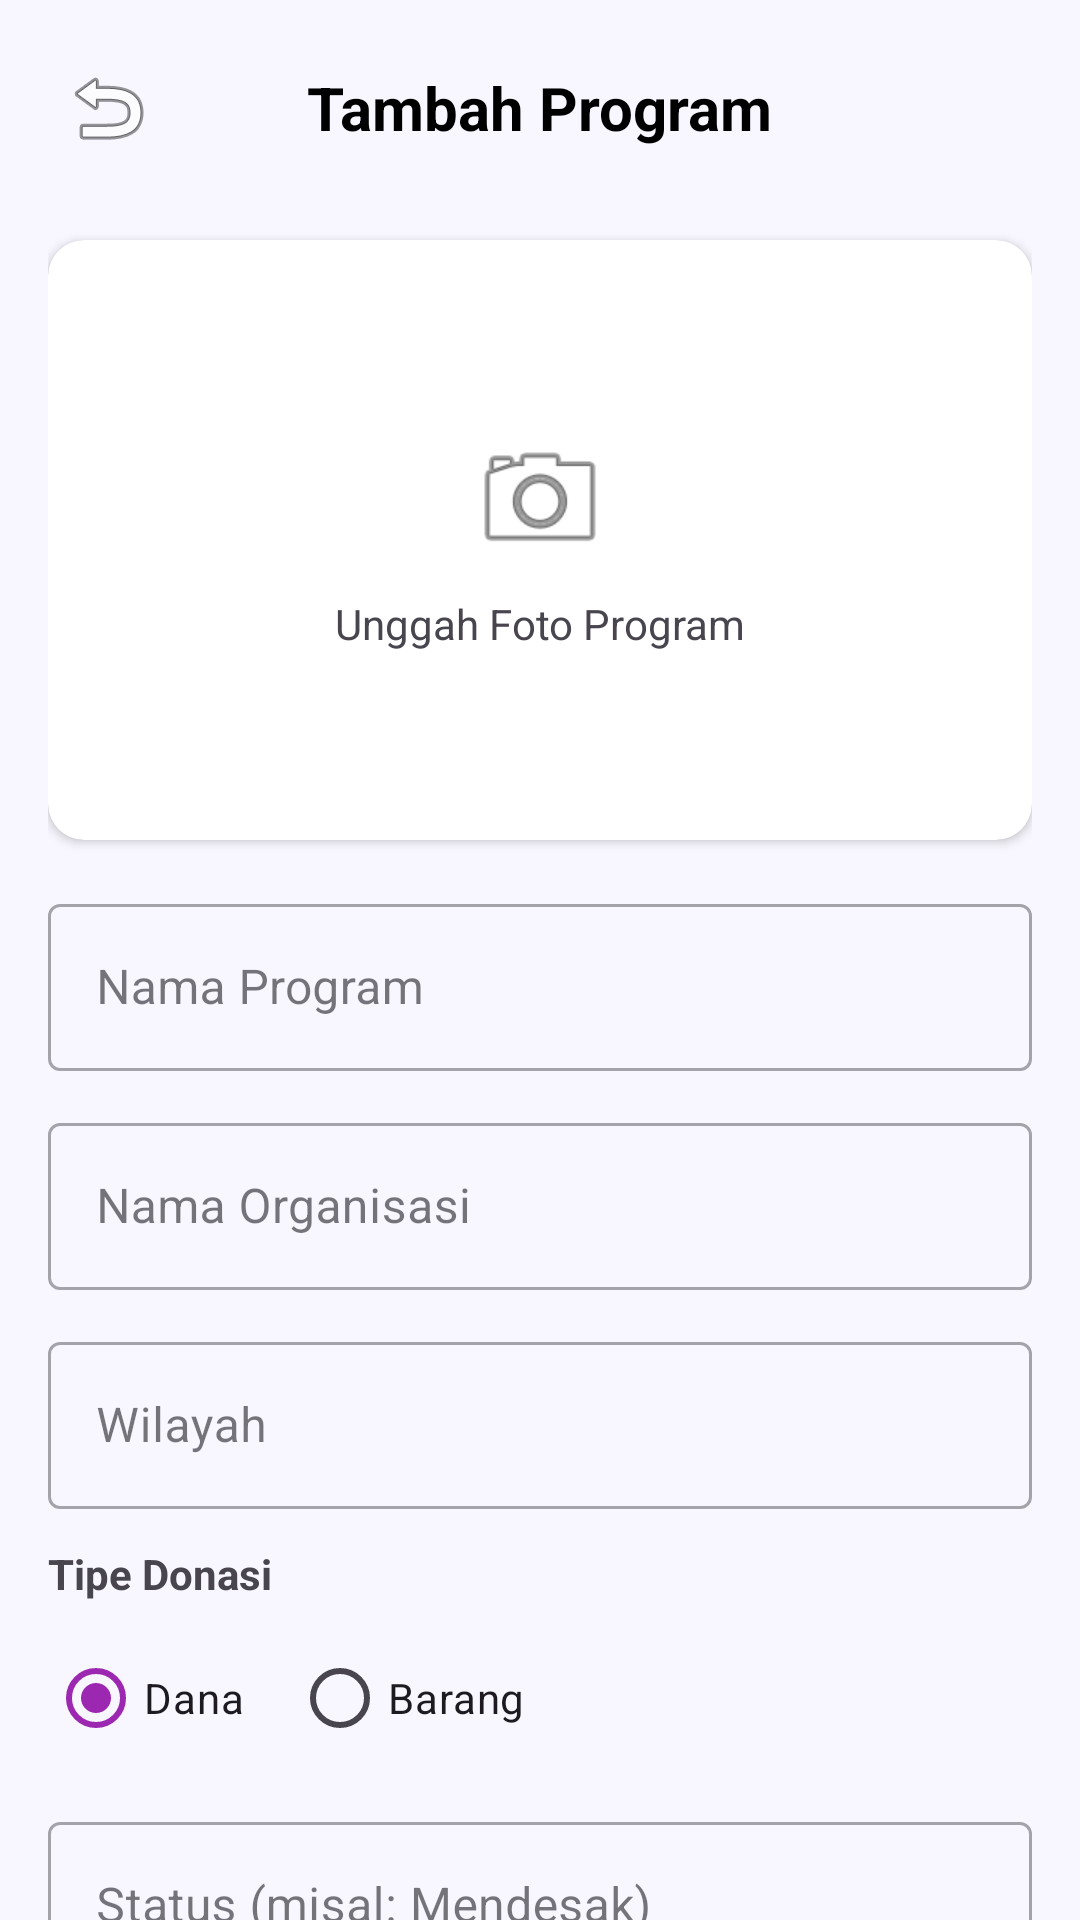

Named icons in this screenshot (1080px×1920px) and their bounding boxes, (x1, y1, x2, y2):
camera: (484, 452, 596, 541)
Kembali: (75, 77, 144, 140)
